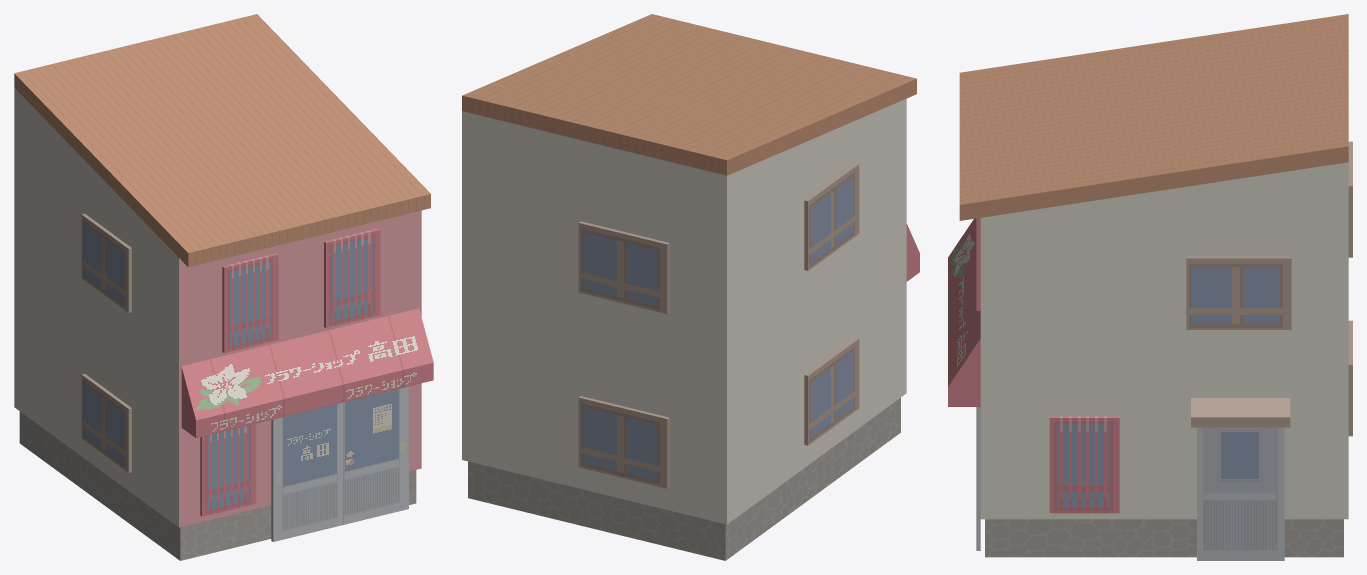
Rendered from 0291_Florist.glb.
3 renders of one model, left to right at view 1: azimuth 30°, elevation 25°; view 2: azimuth 150°, elevation 25°; view 3: azimuth 270°, elevation 25°, orthographic. The views are drawn at different scales.
Parts seen in each view (by area): view 1: part_0; view 2: part_0; view 3: part_0.
Part boxes in pixels (bbox=[...]): part_0: bbox=[14, 14, 433, 560]; part_0: bbox=[462, 14, 919, 560]; part_0: bbox=[948, 14, 1352, 560].
Bounding box in the file's own units: 3.92 × 5.2 × 4.62.
1 material, 1 textured.
